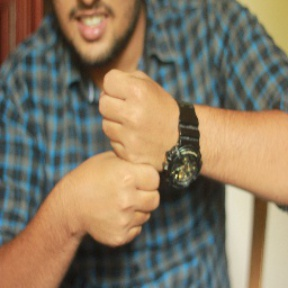G: (72, 63, 184, 250)
